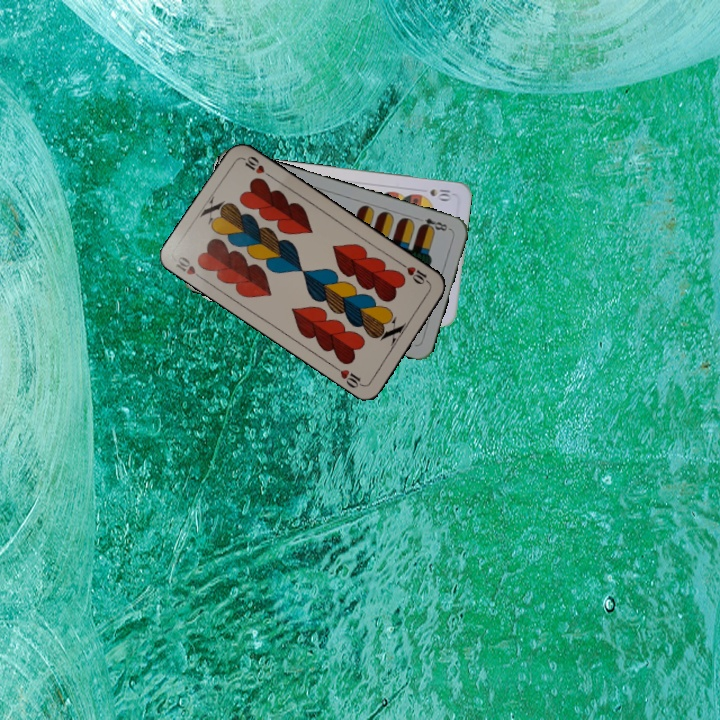E8: (413, 214, 453, 234)
H10: (171, 252, 208, 283), (397, 259, 433, 287)
S10: (426, 185, 454, 202)
